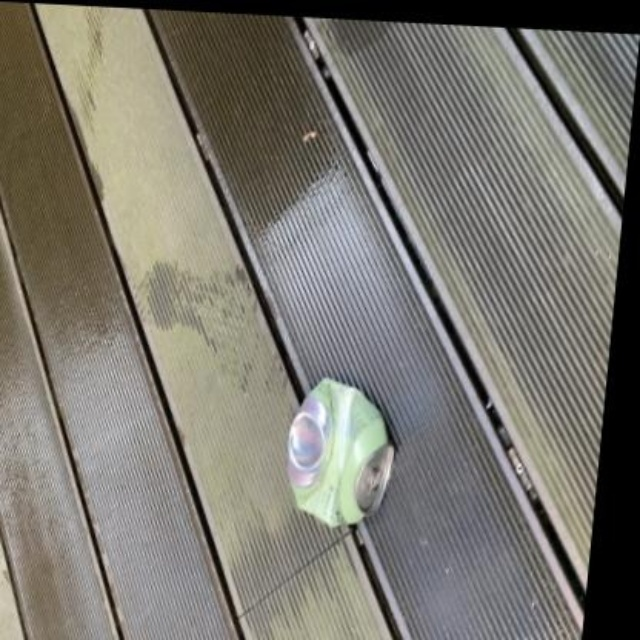trash: (288, 378, 392, 525)
